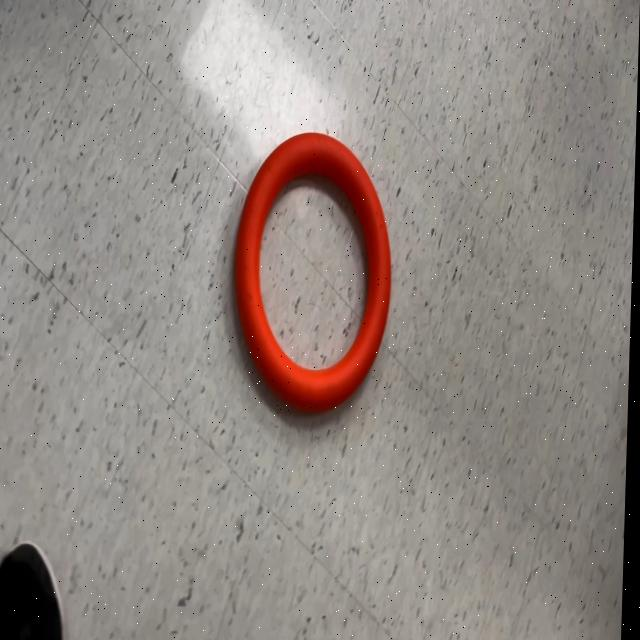note: (231, 132, 398, 416)
